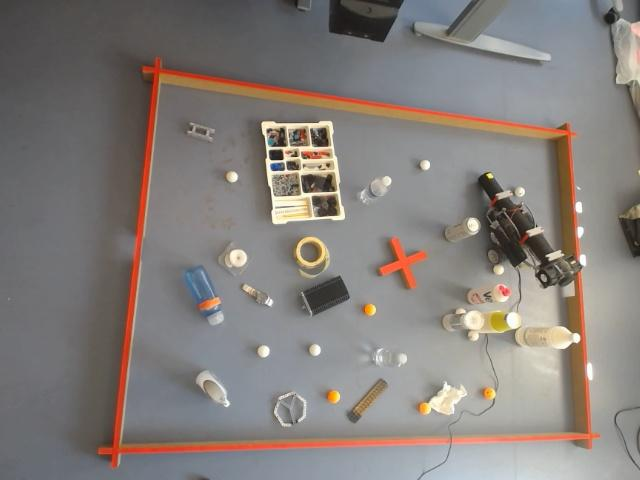orange: (327, 390, 341, 404), (418, 401, 431, 415), (483, 387, 495, 400), (365, 304, 376, 315)
robot: (478, 172, 583, 289)
robot-front: (479, 172, 501, 198)
white: (223, 170, 240, 186), (468, 329, 480, 343), (258, 346, 270, 358), (309, 344, 321, 356), (514, 186, 525, 197), (494, 264, 504, 275), (420, 160, 430, 170)
